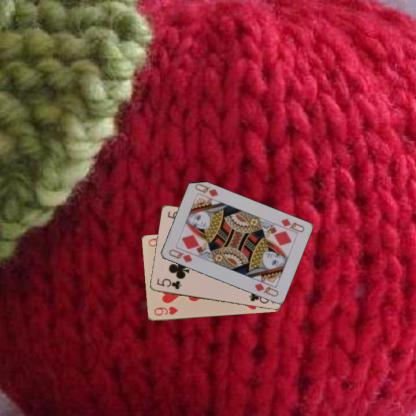5c: (154, 276, 182, 291)
9h: (151, 304, 179, 317)
Qd: (274, 216, 306, 235), (166, 246, 193, 265)
